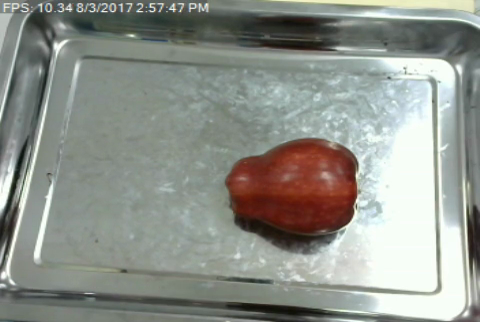Apple: (221, 136, 366, 240)
